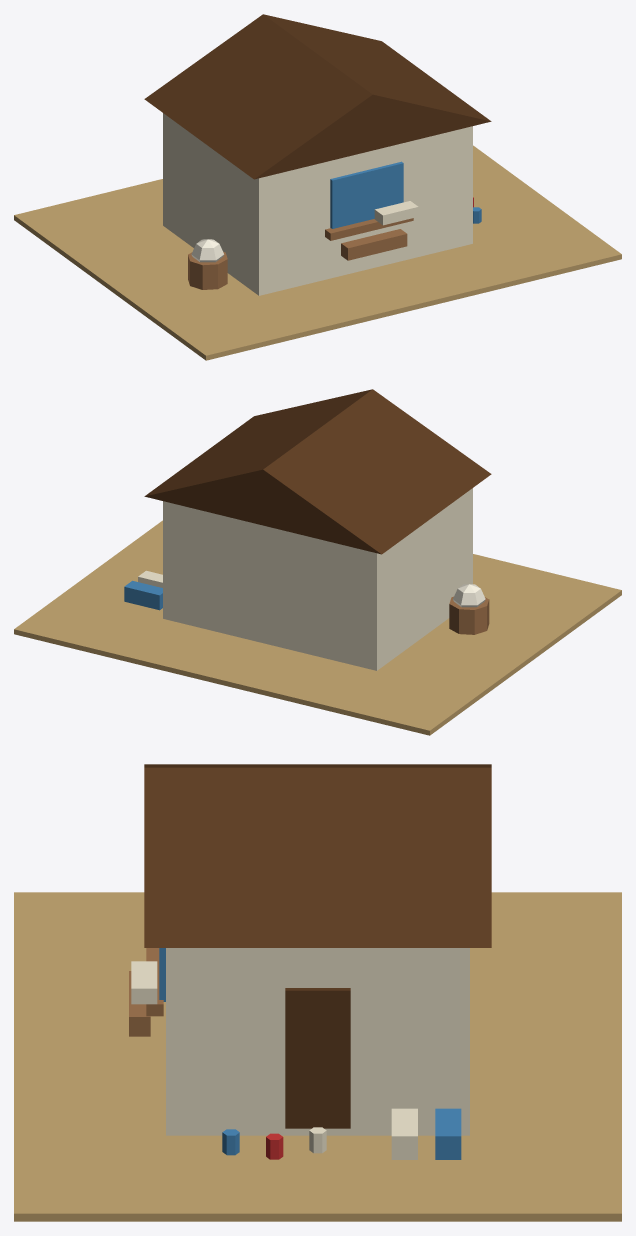
File: weavers_hut.glb
3 renders of one model, top to bottom at view 1: azimuth 30°, elevation 25°; view 2: azimuth 150°, elevation 25°; view 3: azimuth 270°, elevation 25°, orthographic. The views are drawn at different scales.
Visible parts, largest first — view 1: Ground, Roof, Walls, Window, FlowerBox, WoolBasket1, Sill, Cloth, Wool1; view 2: Ground, Walls, Roof, WoolBasket1, Bolt2, Wool1; view 3: Ground, Roof, Walls, Door, Bolt1, Bolt2, Cloth, FlowerBox.
Part boxes in pixels (x1,y1,x2,y2): Ground: (14, 145, 621, 360); Roof: (144, 14, 491, 179); Walls: (163, 113, 472, 295); Window: (330, 161, 403, 228); FlowerBox: (341, 229, 407, 260); WoolBasket1: (188, 252, 227, 289); Sill: (325, 218, 413, 240); Cloth: (374, 201, 418, 225); Wool1: (191, 239, 224, 262); Ground: (14, 520, 621, 735); Walls: (163, 488, 472, 670); Roof: (144, 389, 491, 554); WoolBasket1: (449, 596, 489, 634); Bolt2: (124, 580, 162, 610); Wool1: (453, 584, 485, 607); Ground: (14, 892, 621, 1221); Roof: (144, 764, 491, 947); Walls: (166, 948, 469, 1135); Door: (285, 988, 350, 1128); Bolt1: (391, 1108, 417, 1159); Bolt2: (435, 1108, 461, 1159); Cloth: (131, 961, 157, 1004); FlowerBox: (129, 971, 150, 1036).
Bounding box in the file's own units: 3.5 × 1.49 × 2.8.
